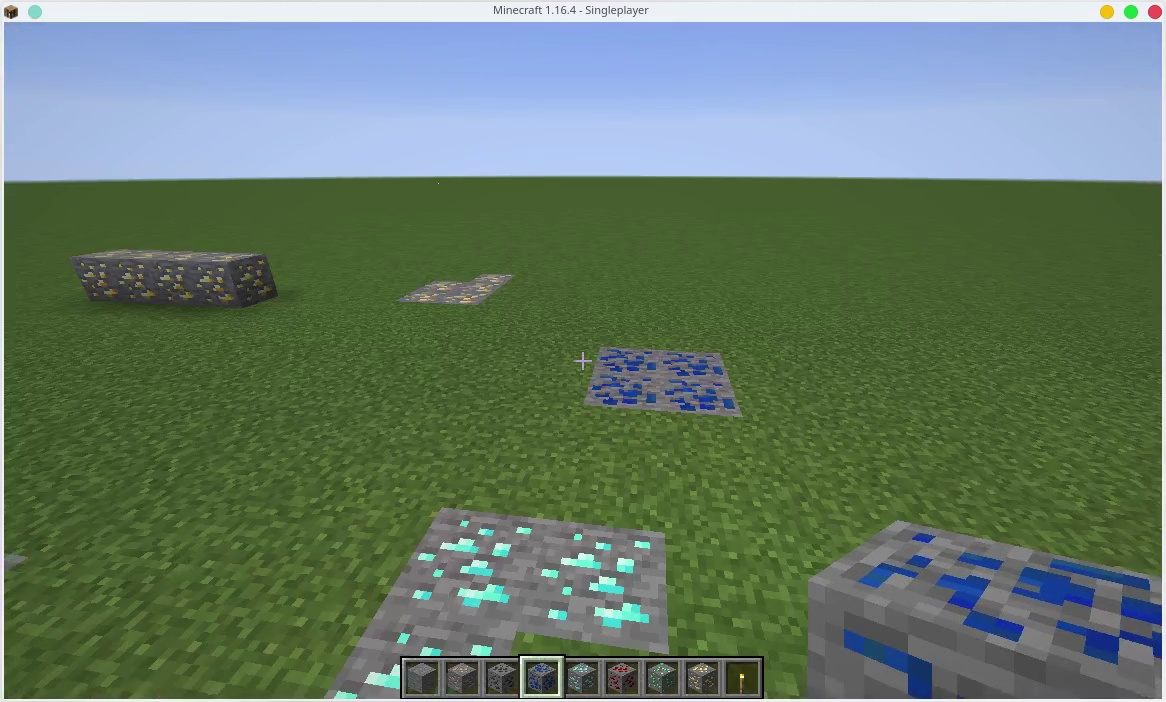gold: (199, 248, 272, 304), (159, 244, 196, 304), (116, 246, 151, 304), (78, 244, 110, 304), (687, 661, 719, 692), (443, 293, 484, 305), (401, 293, 437, 305), (476, 273, 516, 283), (449, 283, 501, 288), (428, 281, 456, 289)
